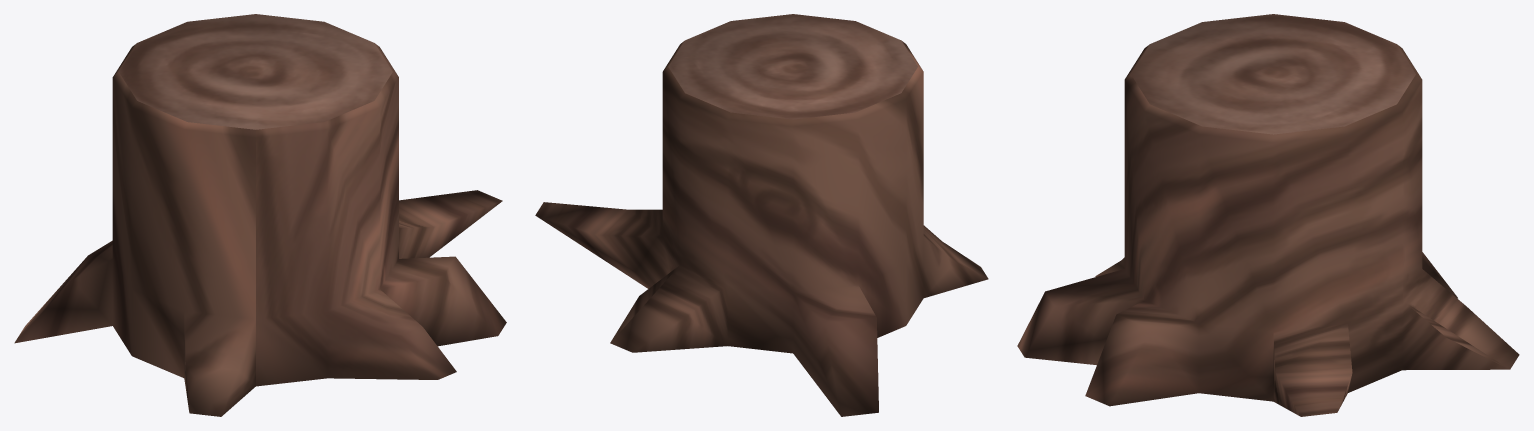
File: Baumstumpf.fbx
3 renders of one model, left to right at view 1: azimuth 30°, elevation 25°; view 2: azimuth 150°, elevation 25°; view 3: azimuth 270°, elevation 25°, orthographic. The views are drawn at different scales.
Visible parts, largest first — view 1: Cylinder; view 2: Cylinder; view 3: Cylinder.
Part boxes in pixels (box(x1,y1,x2,y2)): Cylinder: box(14, 14, 506, 416); Cylinder: box(535, 14, 988, 416); Cylinder: box(1017, 14, 1519, 416).
Size of the model in its own units: 125 by 79.17 by 122.
